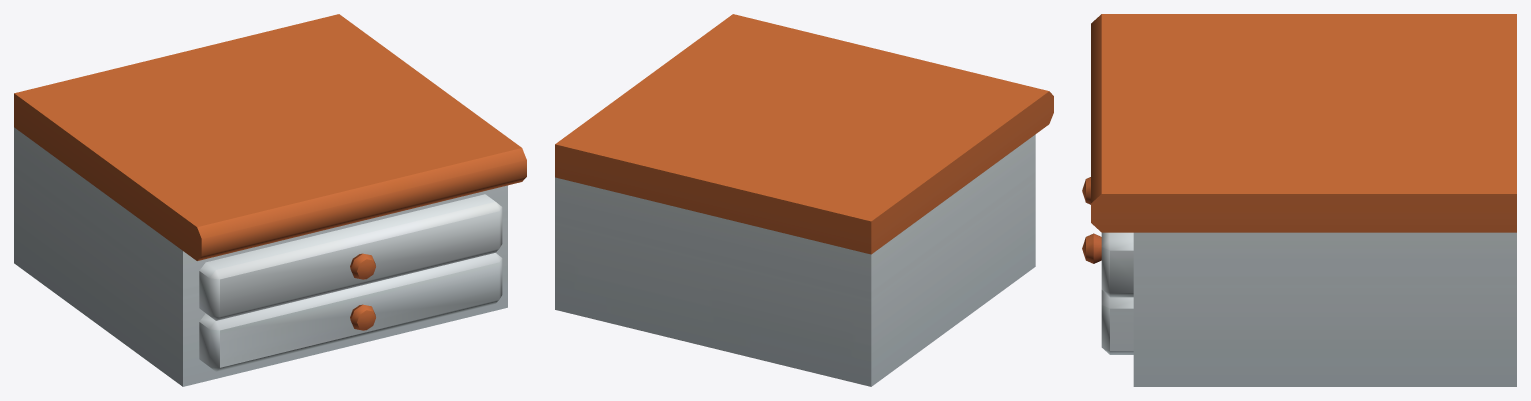
File: kitchen-counter.glb
The picture shows the model from 3 angles, left to right: view 1: azimuth 30°, elevation 25°; view 2: azimuth 150°, elevation 25°; view 3: azimuth 270°, elevation 25°; orthographic projection. The views are drawn at different scales.
Visible parts, largest first — view 1: kitchencounter_straight_A; view 2: kitchencounter_straight_A; view 3: kitchencounter_straight_A.
Part boxes in pixels (box(x1,y1,x2,y2)): kitchencounter_straight_A: box(14, 14, 526, 386); kitchencounter_straight_A: box(555, 14, 1053, 386); kitchencounter_straight_A: box(1082, 14, 1516, 386).
Bounding box in the file's own units: 1.8 × 0.8999 × 1.84.
1 material, 1 textured.
